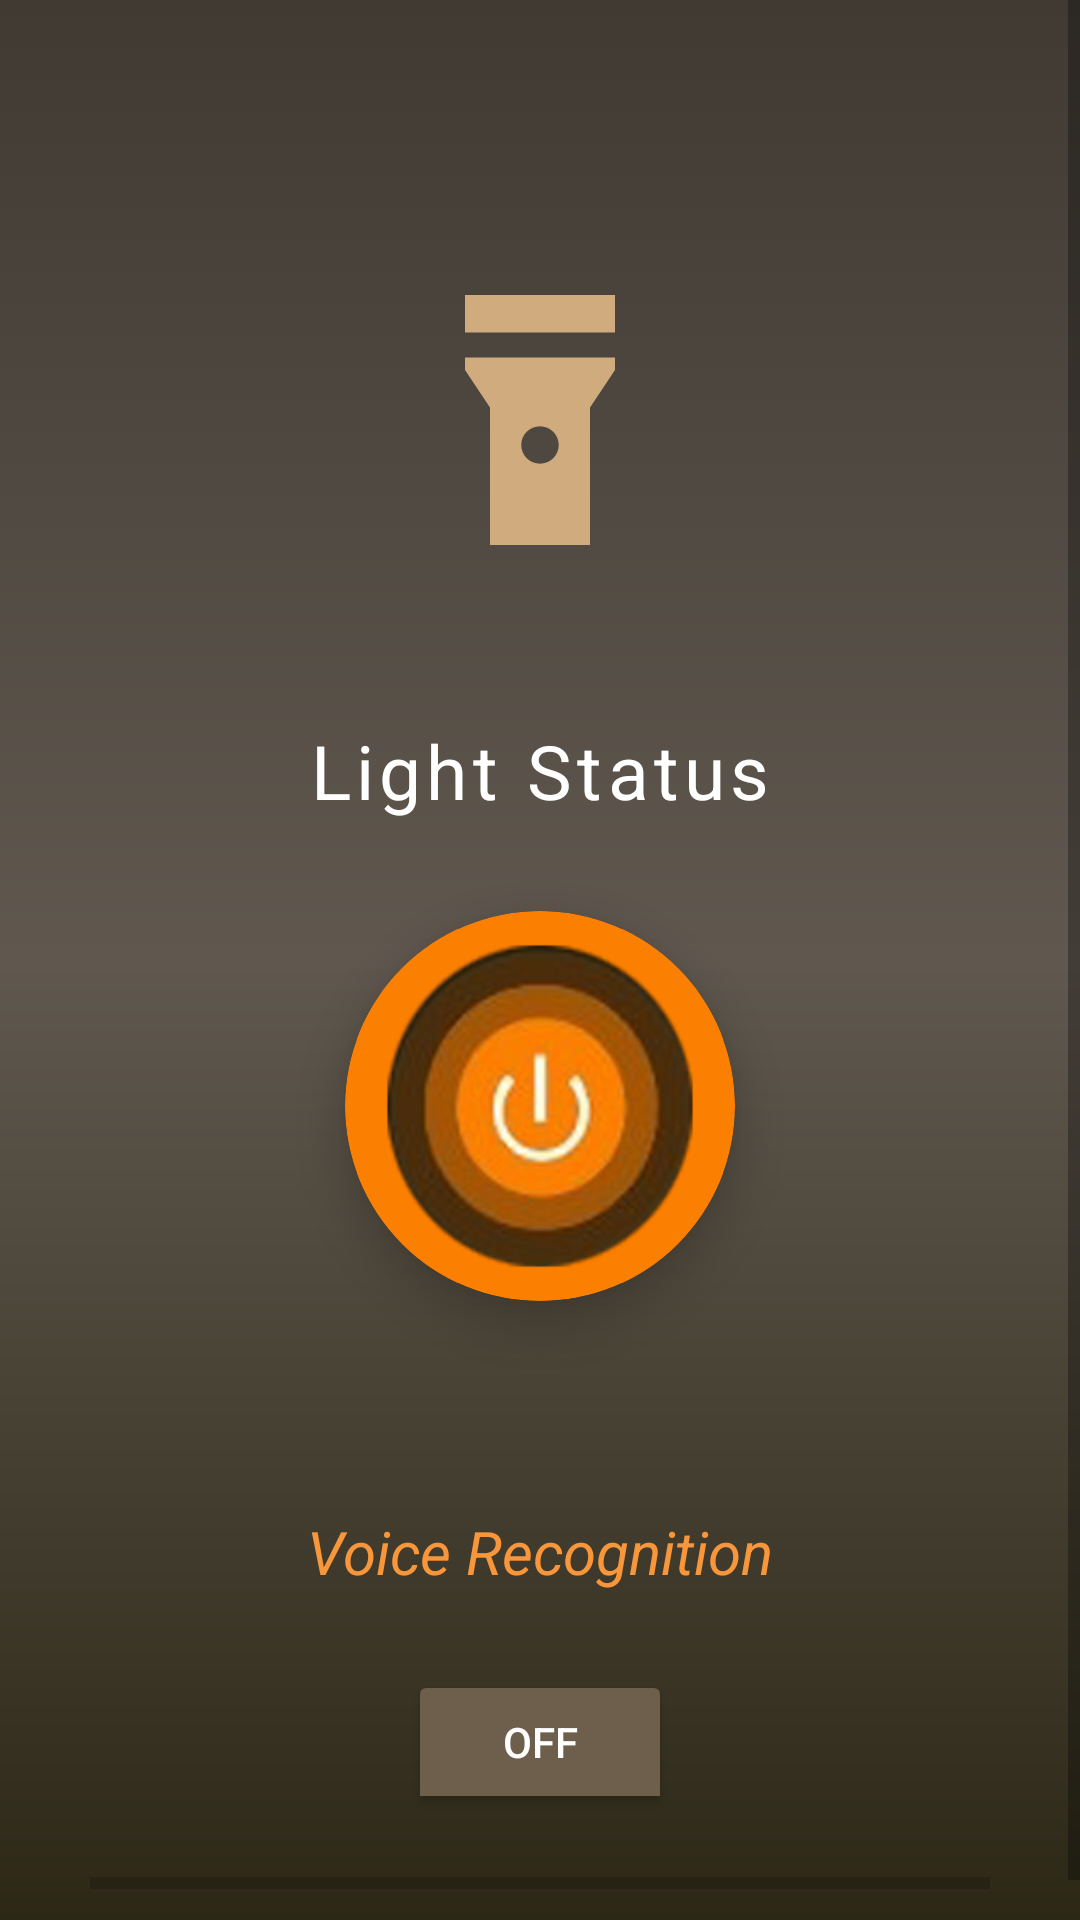

Point at icon controls on the screen. Image size 1080w x 1920h, points as (x,y).
flashlight on: (540,420)
